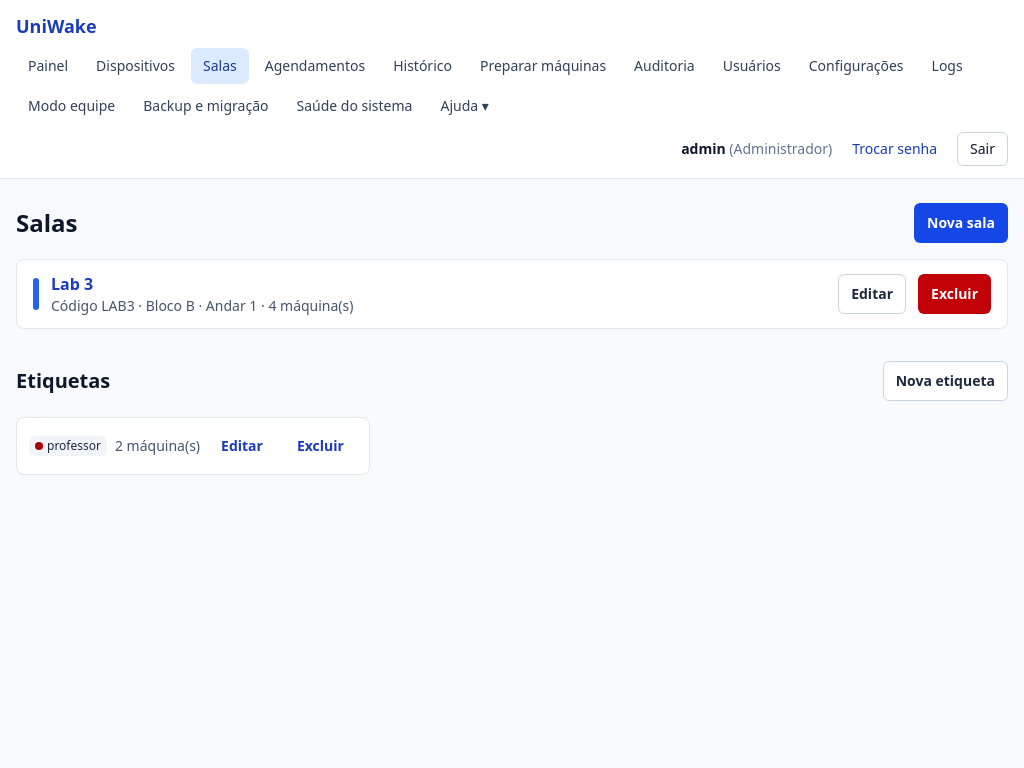
Scenario: rooms page (FR-008.1, FR-008.2) › AC-008-01 deleting a room shows how many machines go to "Sem sala" and the affected schedules
Click the button with aria-label "Excluir sala Lab 3": (954, 294) left=918, top=274, right=991, bottom=314
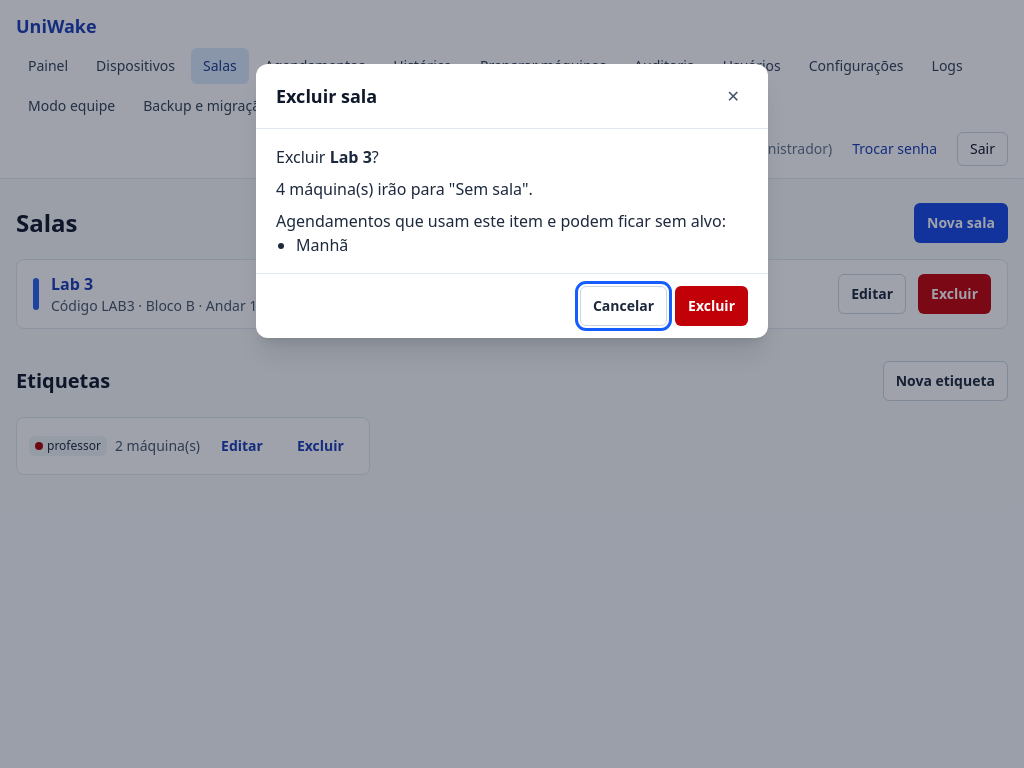
Check: the dialog "Excluir sala" shows "4 máquina(s) irão para \"Sem sala\".", box left=256, top=64, right=768, bottom=338
Check: the dialog "Excluir sala" shows "Manhã", box left=296, top=234, right=348, bottom=256
Click the button "Excluir": (712, 306) left=675, top=286, right=748, bottom=326
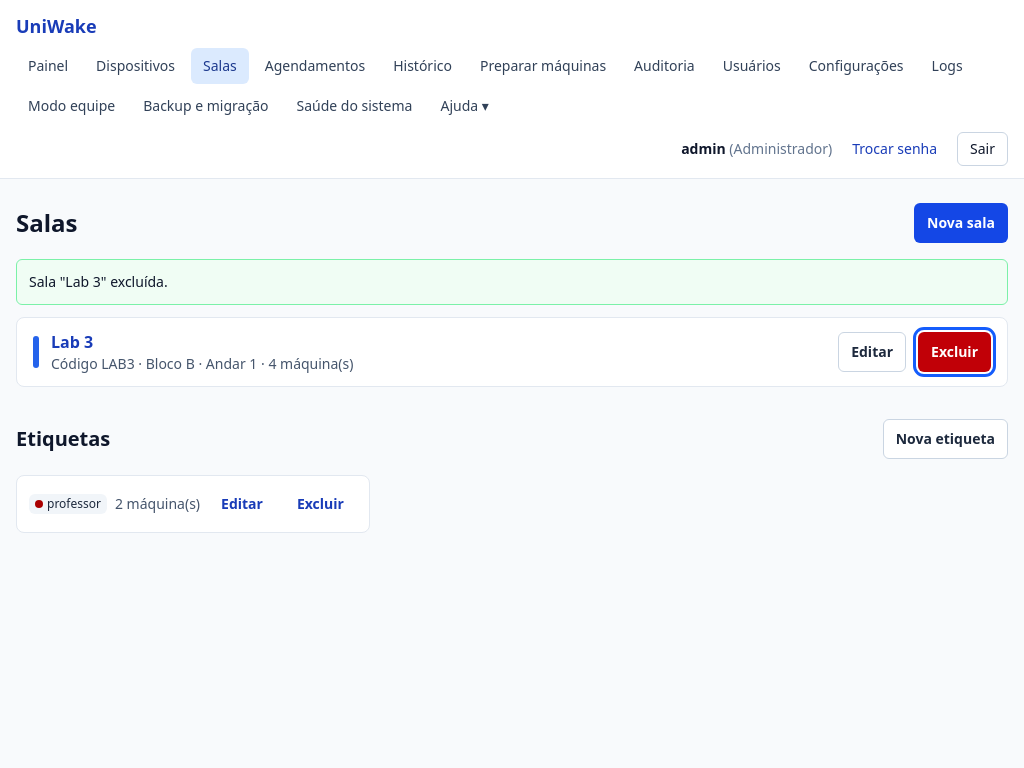
Check: the text "Sala \"Lab 3\" excluída." is shown, box left=16, top=259, right=1008, bottom=305
